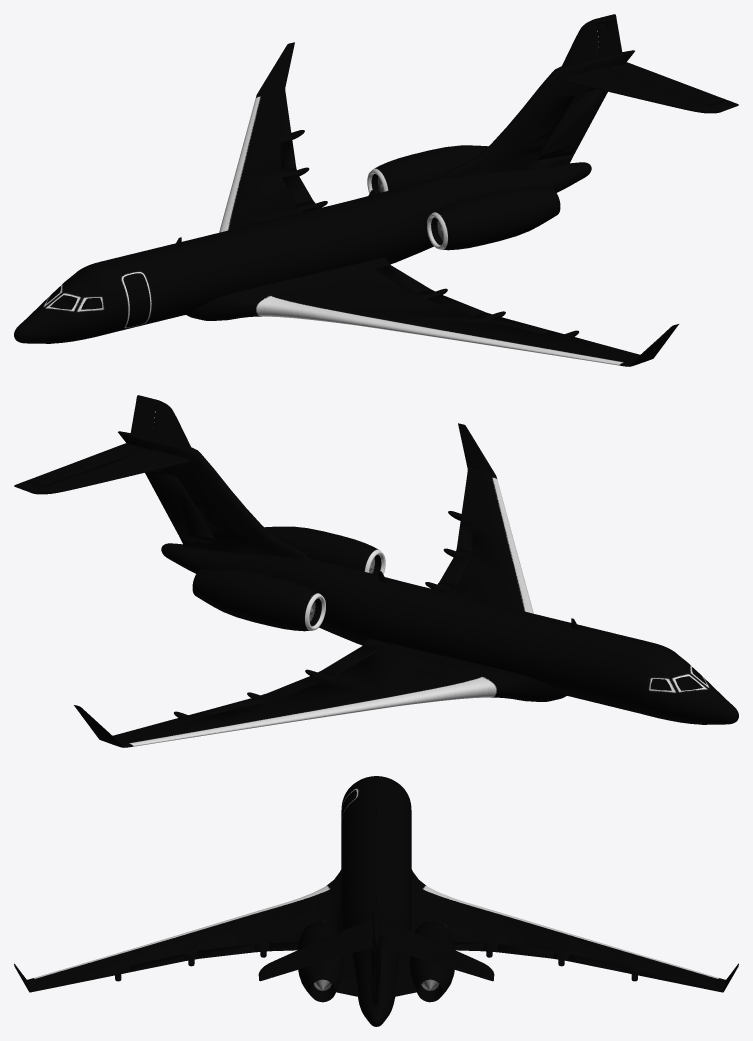
The model's file is jet-black.glb.
The picture shows the model from 3 angles, top to bottom: view 1: azimuth 30°, elevation 25°; view 2: azimuth 150°, elevation 25°; view 3: azimuth 270°, elevation 25°; orthographic projection. The views are drawn at different scales.
Parts seen in each view (by area): view 1: Object_4; view 2: Object_4; view 3: Object_4.
Part boxes in pixels (bbox=[...]): Object_4: bbox=[14, 14, 738, 366]; Object_4: bbox=[14, 395, 738, 747]; Object_4: bbox=[14, 776, 738, 1026].
Bounding box in the file's own units: 26.22 × 6.26 × 26.4.
1 material, 1 textured.
